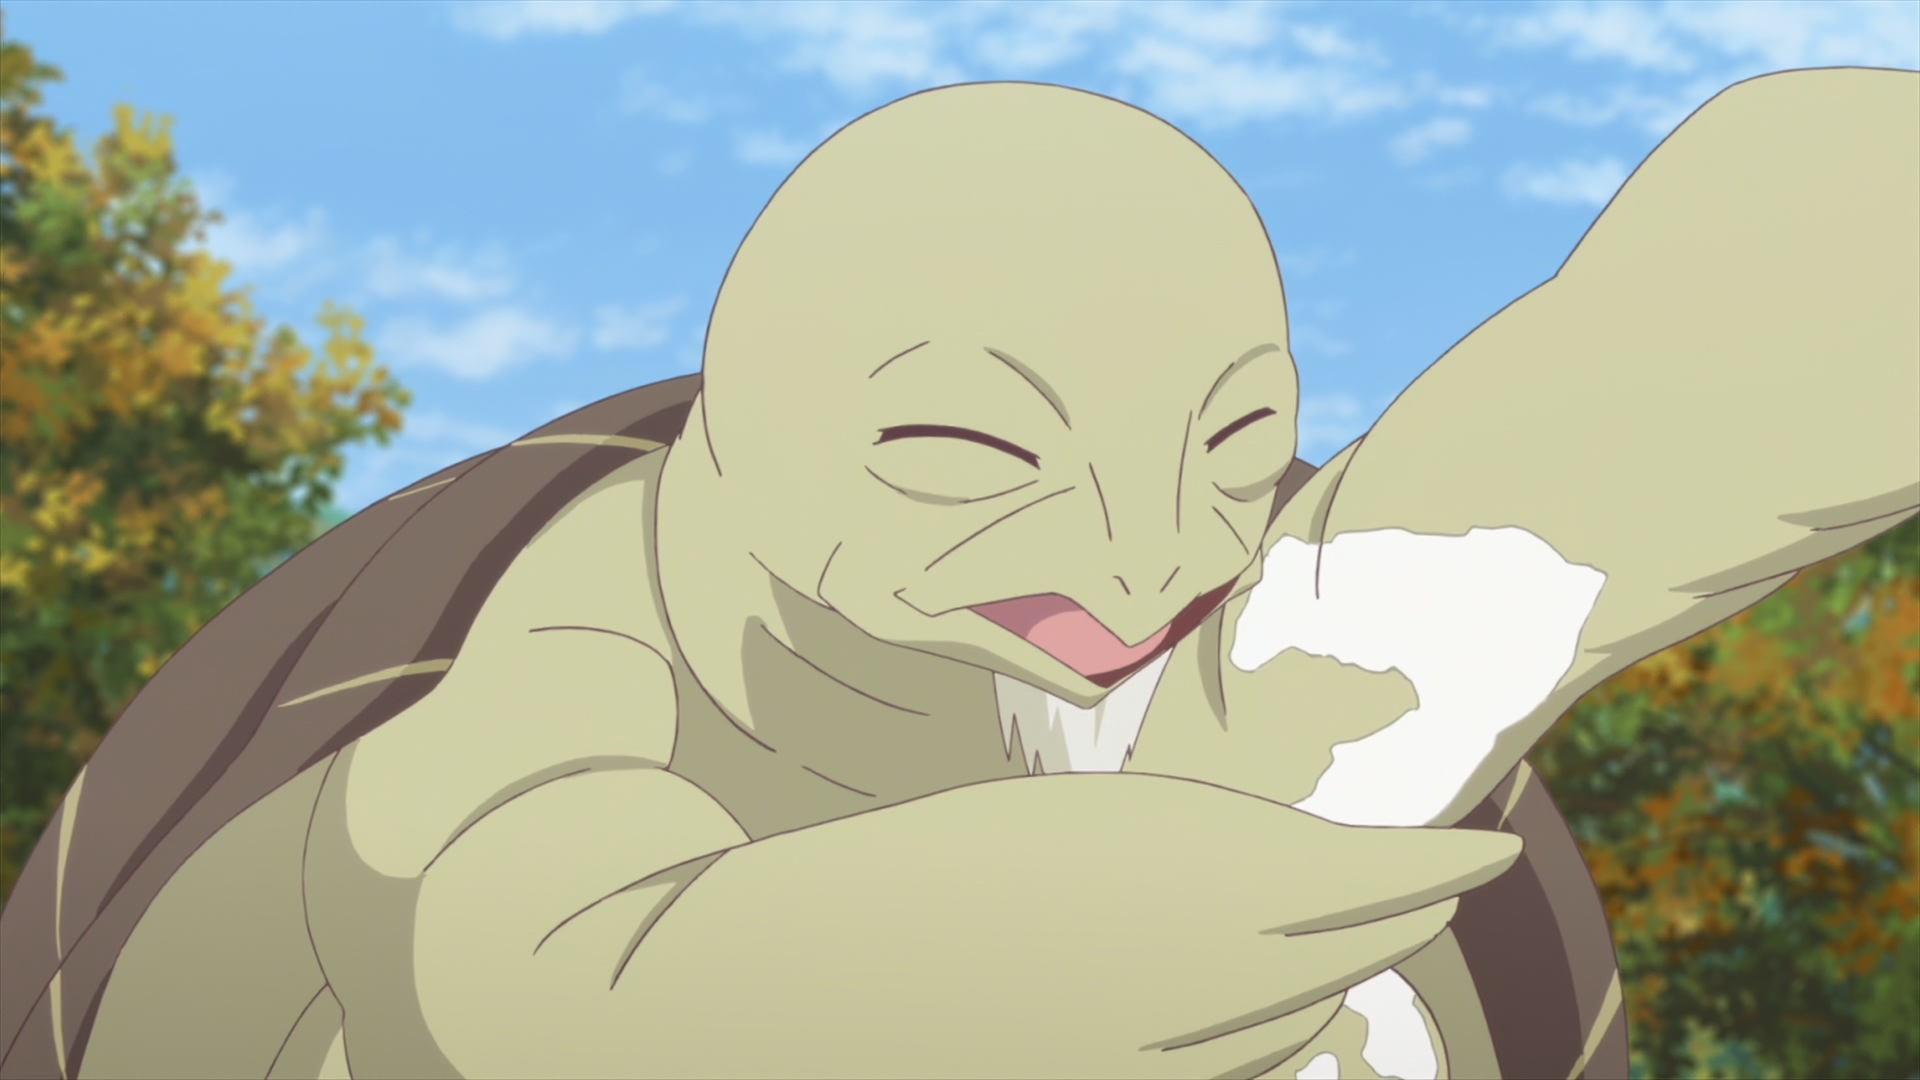其他: (1, 67, 1920, 1080)
